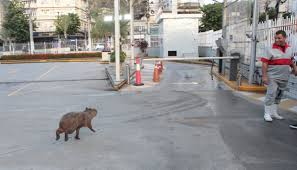capivara: (55, 107, 99, 143)
